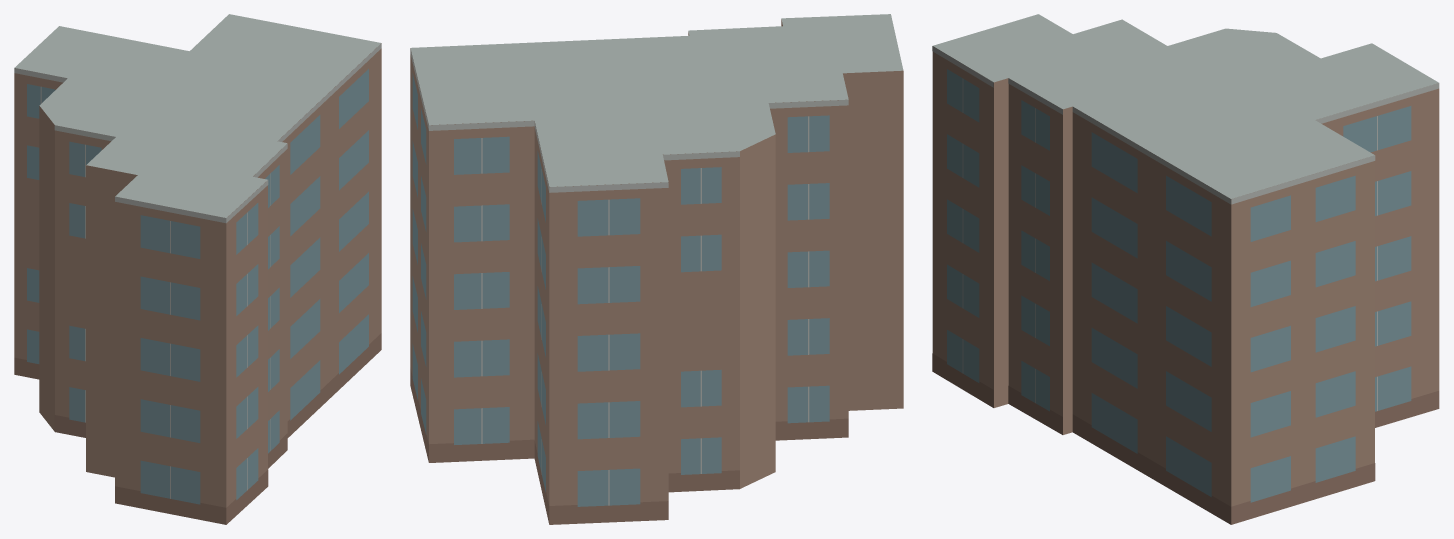
File: survey-upis-32901040.glb
The picture shows the model from 3 angles, left to right: view 1: azimuth 30°, elevation 25°; view 2: azimuth 150°, elevation 25°; view 3: azimuth 270°, elevation 25°; orthographic projection. The views are drawn at different scales.
Parts seen in each view (by area): view 1: survey-upis-32901040.tmp; view 2: survey-upis-32901040.tmp; view 3: survey-upis-32901040.tmp.
Boxes of the visible parts, x1,y1,x2,y2 form: survey-upis-32901040.tmp: [14, 14, 381, 524]; survey-upis-32901040.tmp: [410, 14, 903, 524]; survey-upis-32901040.tmp: [932, 14, 1439, 524].
Size of the model in its own units: 17.43 by 14.3 by 20.17.
